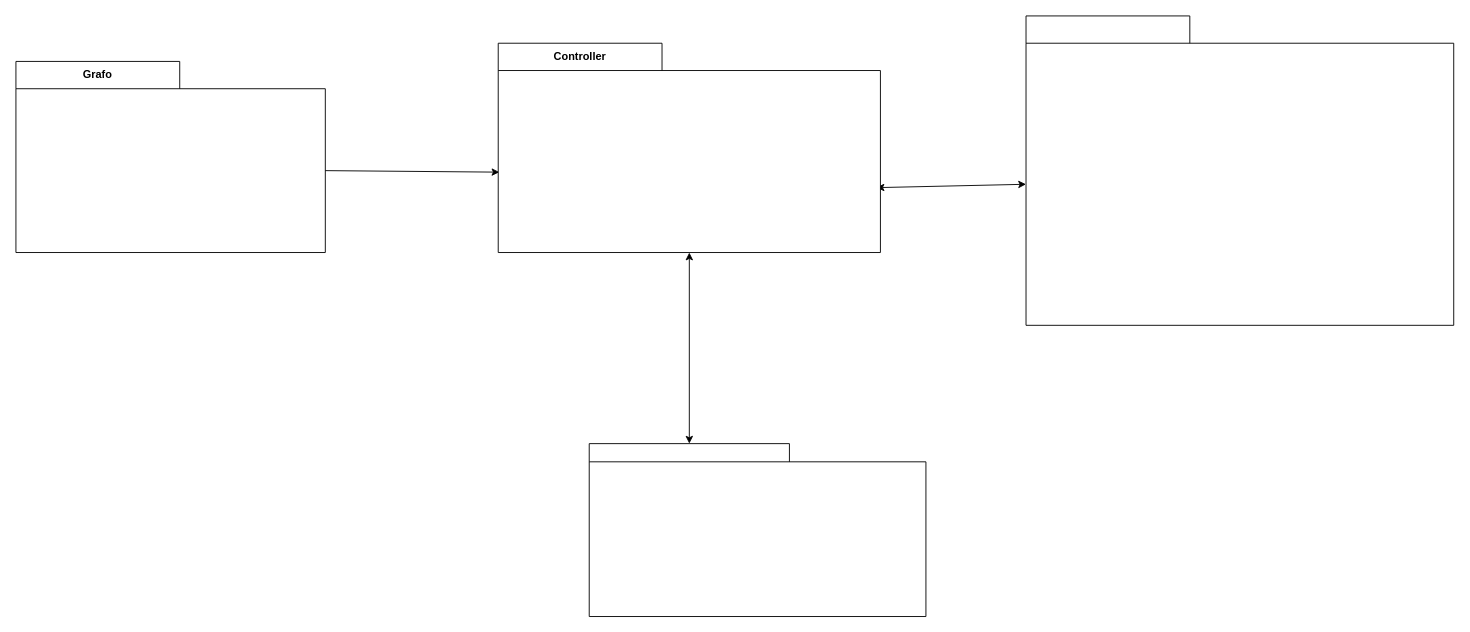
The diagram is 1470 pixels wide and 632 high, and some of its shapes have lost their labels. Here are the shapes that lost their labels. From the top down, the centre of each, then its label:
At pixel 1239 170: "Model".
At pixel 757 530: "View".
